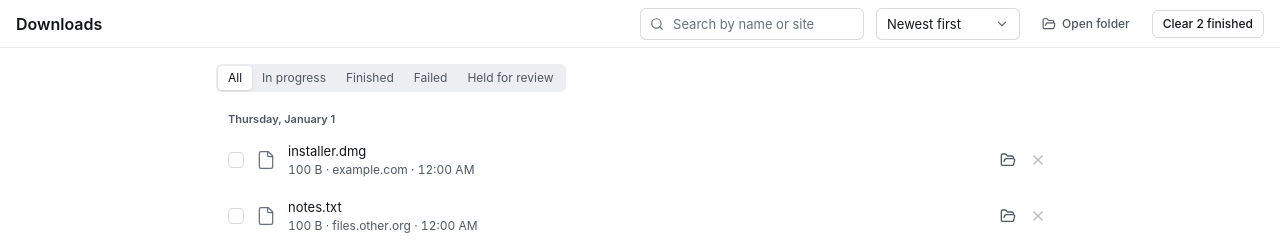
Scenario: narrowing and acting on the list › finds a download by the site it came from
Type "other.org" into the search field labelled "Search by name or site".
click(752, 24); type("other.org")  # box [640,8,864,40]
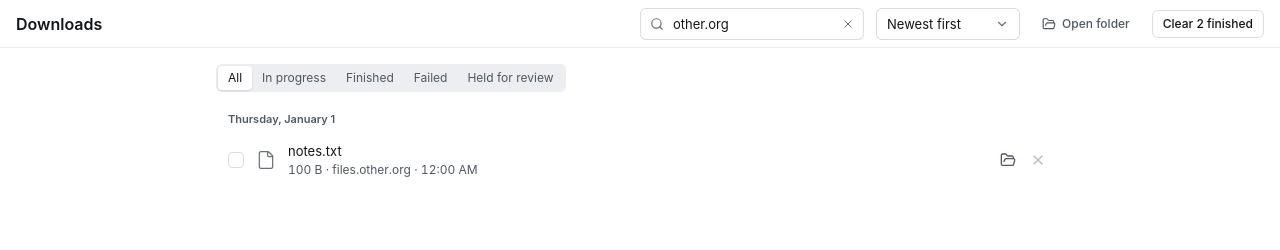
Expected: the button "notes.txt" is shown, [288,142,342,160]
Expected: the button "installer.dmg" is gone
